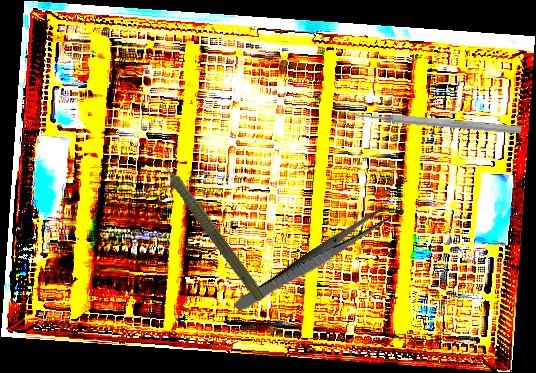Dressing Forceps: (232, 203, 394, 318)
Handpiece: (147, 144, 272, 305)
Pusher: (344, 108, 522, 136)
